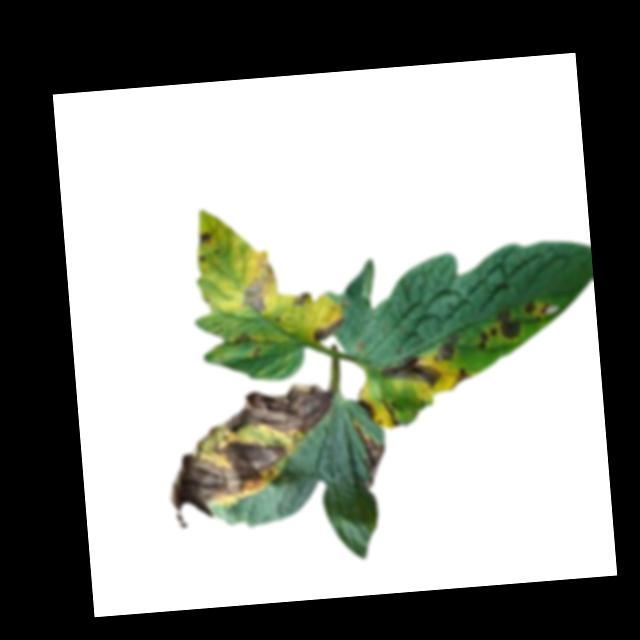Early_blight: (165, 440, 304, 528), (204, 379, 338, 448), (378, 353, 443, 395), (355, 420, 387, 489), (240, 260, 279, 316), (495, 306, 525, 342), (311, 315, 348, 344), (432, 333, 463, 365), (449, 364, 476, 393), (524, 298, 552, 324), (355, 395, 378, 422), (476, 326, 498, 352), (232, 329, 255, 348), (197, 227, 217, 248), (293, 293, 313, 308)
